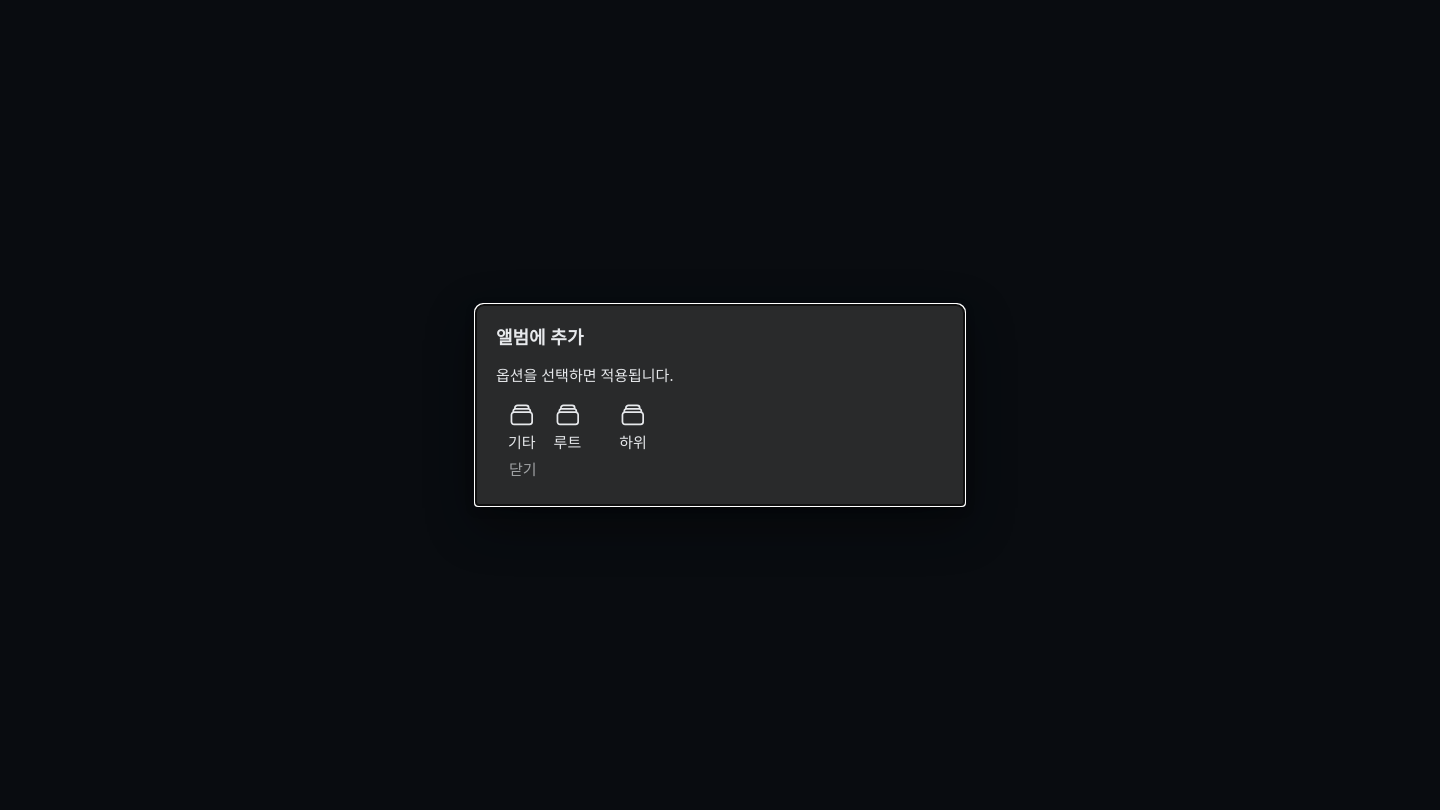
Scenario: AlbumBatchSheet › sends more than 100 assets as sequential chunks of at most 100
The image size is (1440, 810).
What coordinates should you click on to do the following:
click the button "루트"
I would click on:
 (564, 426)
Its box is [542,400,587,453].
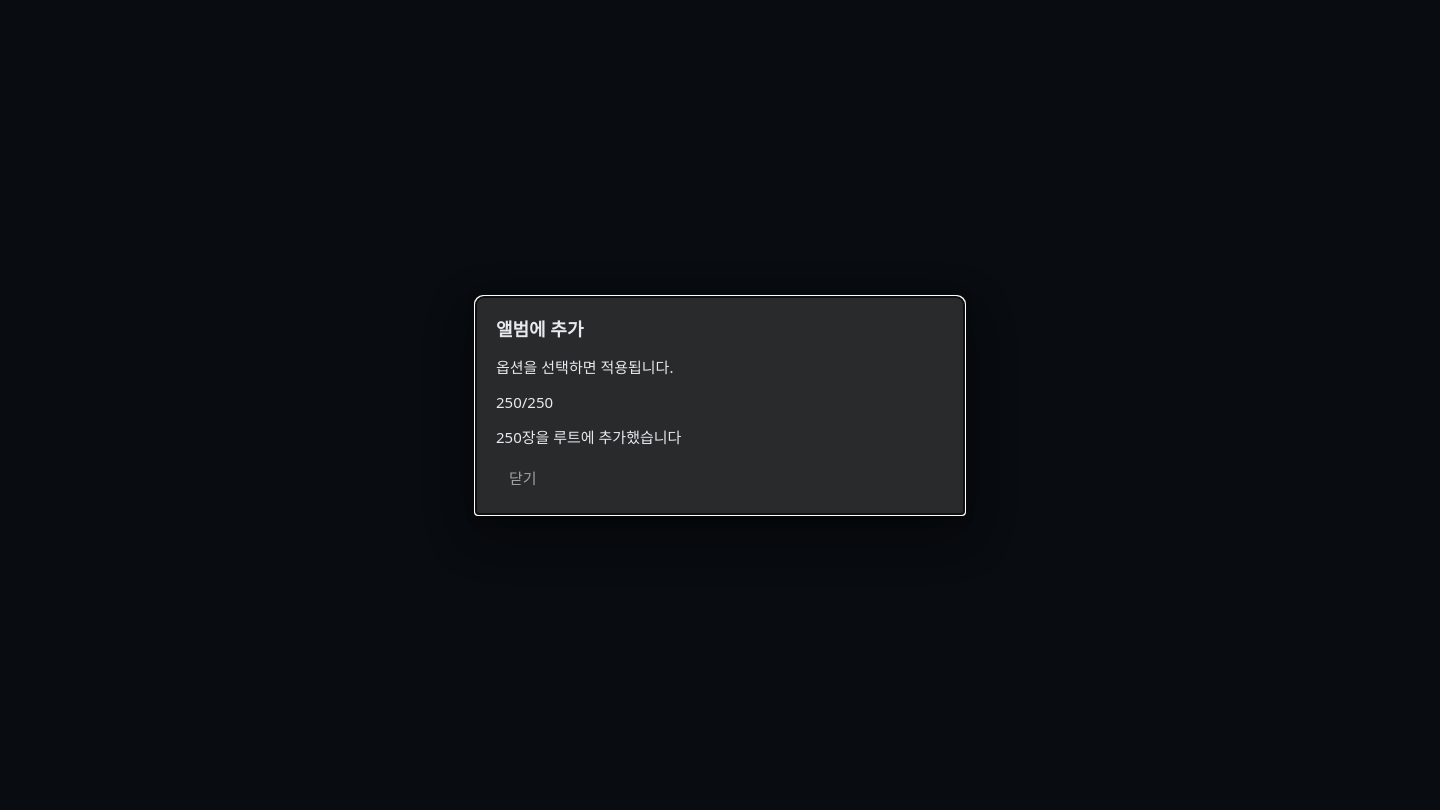
Expected: the text "250/250" is shown, [496,392,553,412]
